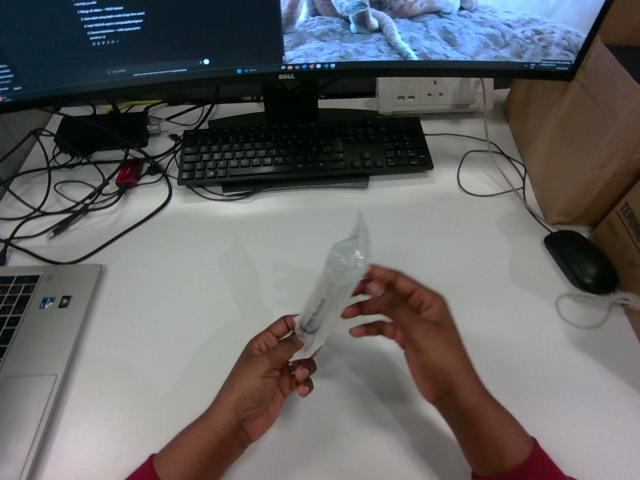syringe: (291, 214, 368, 360)
